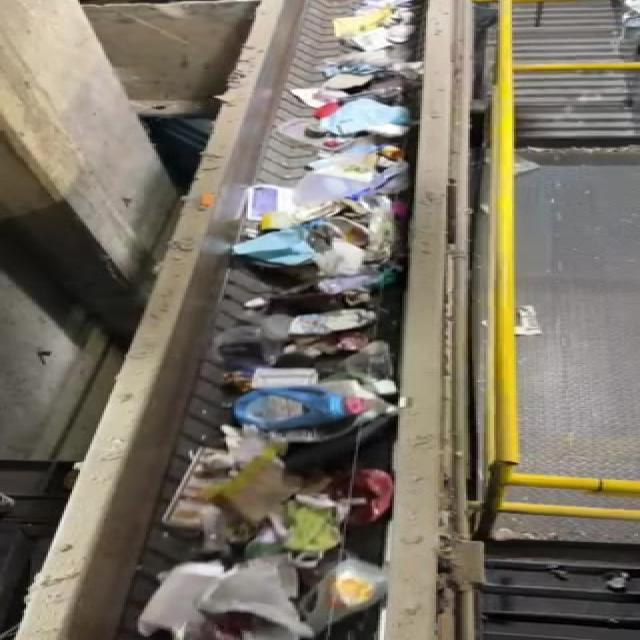hdpe: (197, 378, 395, 441), (312, 555, 398, 640)
paper: (165, 444, 296, 553), (227, 562, 320, 640)
pp: (333, 461, 398, 542)
ps: (126, 557, 220, 640)
